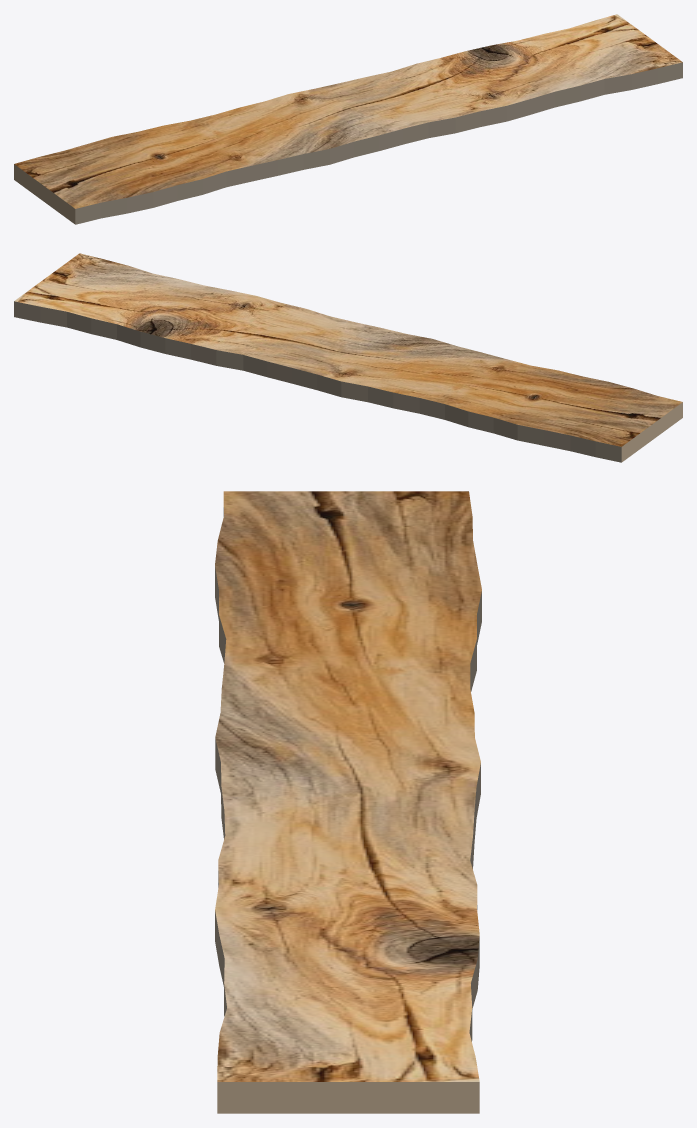
3 views of the same model, one above another, from view 1: azimuth 30°, elevation 25°; view 2: azimuth 150°, elevation 25°; view 3: azimuth 270°, elevation 25° (orthographic). The views are drawn at different scales.
Visible parts, largest first — view 1: PL-001; view 2: PL-001; view 3: PL-001.
Part boxes in pixels (<box>): PL-001: <box>14,14,682,224</box>; PL-001: <box>14,253,682,462</box>; PL-001: <box>215,491,481,1113</box>.
Size of the model in its own units: 1.2 by 0.03 by 0.2295.
3 materials, 1 textured.
